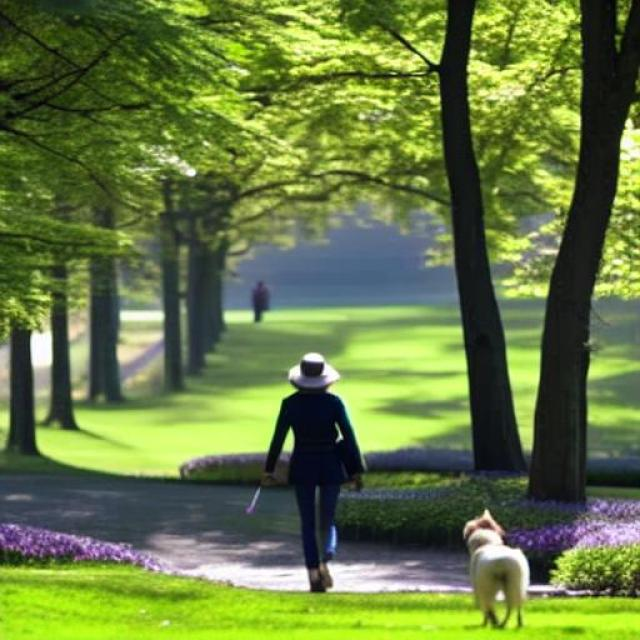Unleashed_Dog: (295, 486, 531, 631)
